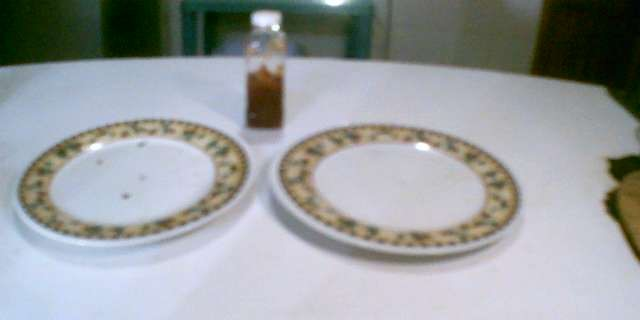empty_plate: (267, 117, 532, 263), (6, 111, 260, 254)
ketchup_bottle: (234, 4, 294, 133)
